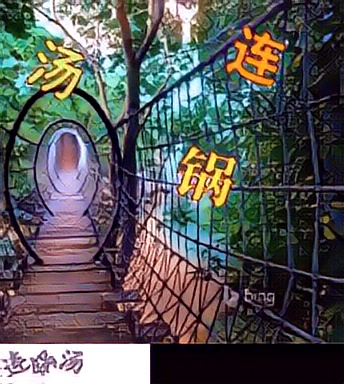B9F8: (175, 143, 238, 210)
C1AC: (226, 21, 289, 88)
CCC0: (25, 36, 88, 103)
